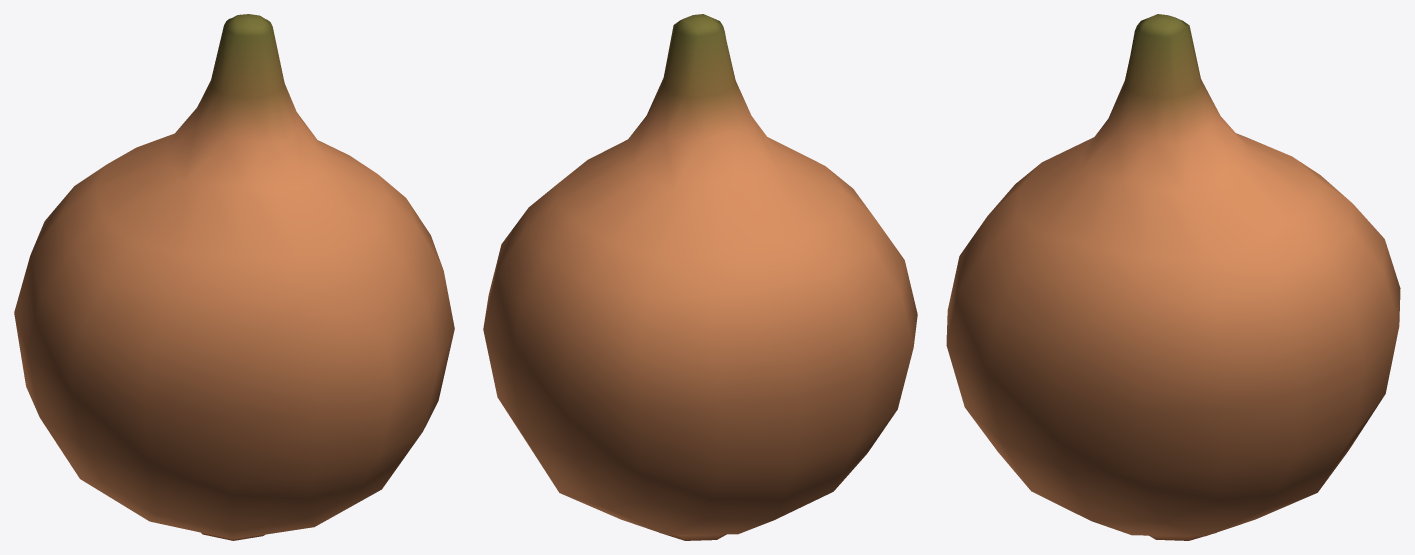
File: Onion_Brown.fbx
3 views of the same model, side by side, from view 1: azimuth 30°, elevation 25°; view 2: azimuth 150°, elevation 25°; view 3: azimuth 270°, elevation 25° (orthographic). The views are drawn at different scales.
Parts seen in each view (by area): view 1: Onion_Brown; view 2: Onion_Brown; view 3: Onion_Brown.
Part boxes in pixels (x1,y1,x2,y2): Onion_Brown: (14,14,454,540); Onion_Brown: (483,14,917,540); Onion_Brown: (946,14,1400,540).
Bounding box in the file's own units: 24.26 × 31.05 × 25.08.
